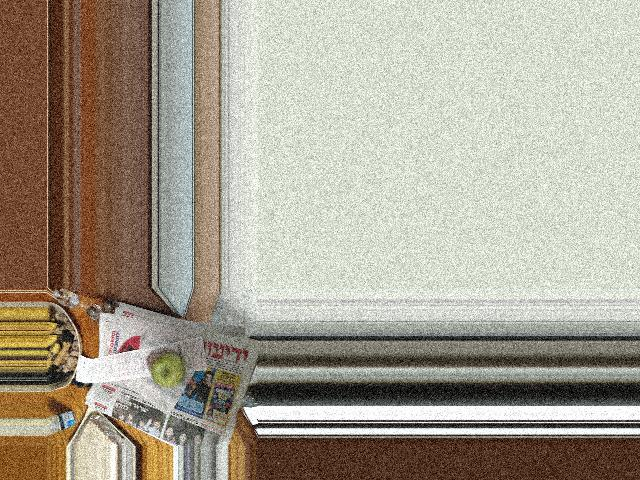apple: (148, 351, 191, 389)
